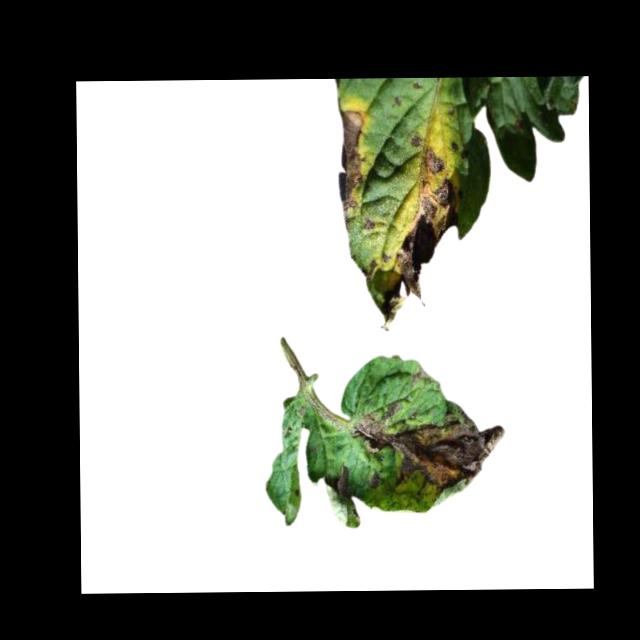Early_blight: (351, 402, 508, 491), (381, 176, 463, 332), (339, 109, 366, 210), (421, 148, 447, 176), (333, 466, 351, 503), (412, 366, 428, 388), (363, 259, 379, 281), (409, 134, 422, 147), (449, 141, 461, 154), (363, 219, 373, 233)
